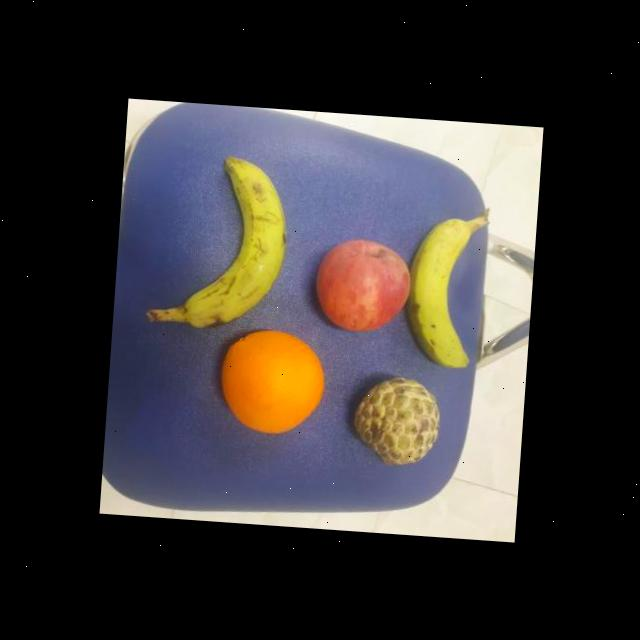Sakya fruit: (348, 373, 442, 468)
apple: (310, 234, 410, 334)
banana: (178, 153, 294, 335), (400, 213, 480, 373)
orange: (217, 326, 328, 439)
